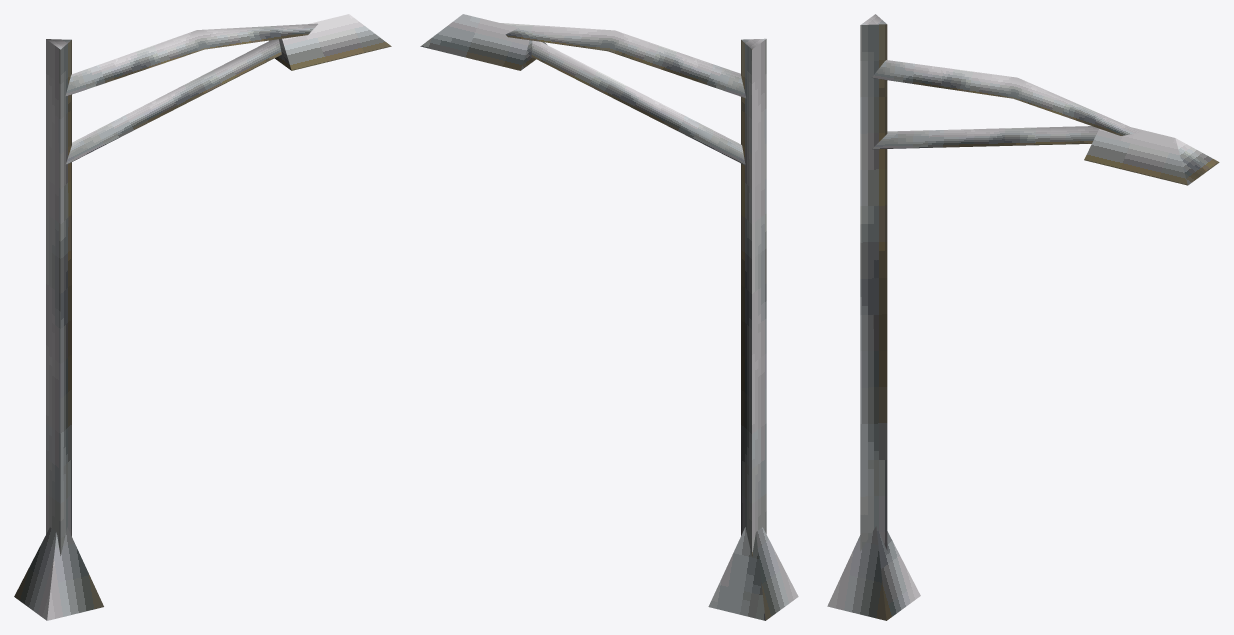
Rendered from Environment - Vegetation - Street Lamp - Damaged - PMstrtlamp_d.glb.
The picture shows the model from 3 angles, left to right: view 1: azimuth 30°, elevation 25°; view 2: azimuth 150°, elevation 25°; view 3: azimuth 330°, elevation 25°; orthographic projection. The views are drawn at different scales.
Visible parts, largest first — view 1: PMSTRTLAMP_D; view 2: PMSTRTLAMP_D; view 3: PMSTRTLAMP_D.
Boxes of the visible parts, x1,y1,x2,y2 form: PMSTRTLAMP_D: (14, 14, 391, 620); PMSTRTLAMP_D: (420, 14, 798, 620); PMSTRTLAMP_D: (827, 14, 1219, 620).
Size of the model in its own units: 15.92 by 24.57 by 2.63.
1 material, 1 textured.
